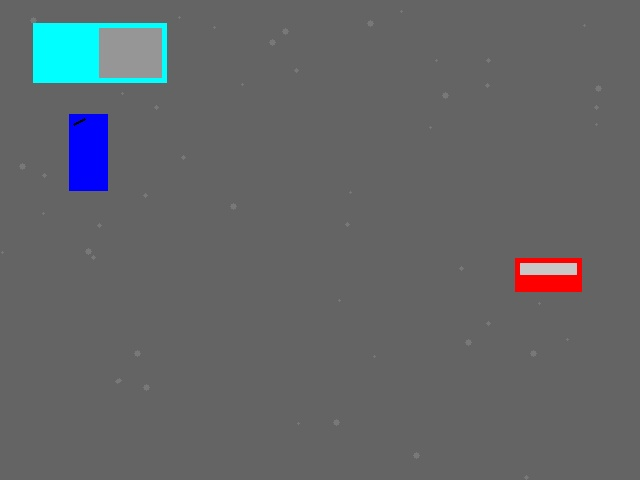car: (515, 258, 581, 291)
motorcycle: (69, 114, 107, 190)
truck: (33, 23, 166, 82)
